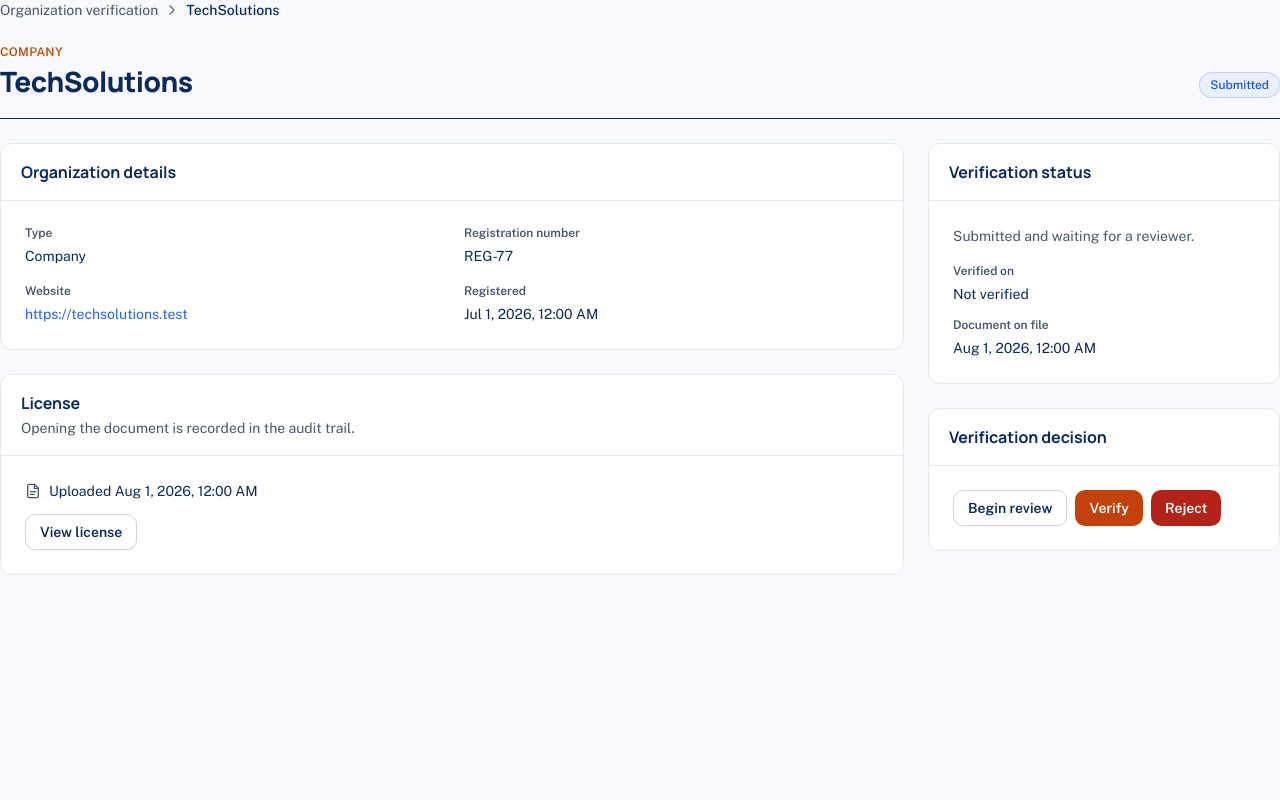
Scenario: AdminOrganizationDetailPage › leaves the organization unverified when the API refuses
Step 1. Click the button "Verify" → (1109, 508), box x1=1076 y1=490 x2=1143 y2=526
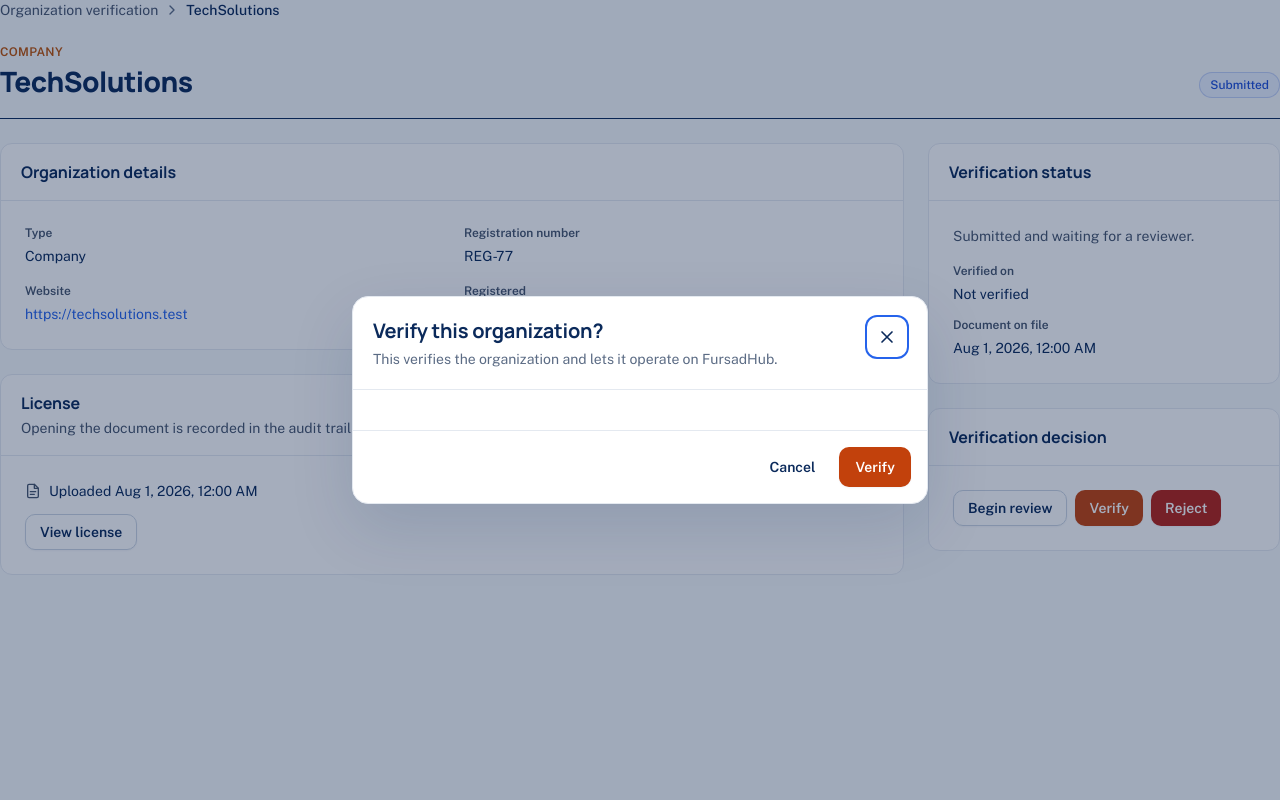
# Phase 8: the dialog's confirm button is named after the action, never a bare "Confirm".
Step 2. Click the button "Verify" → (875, 467), box x1=839 y1=447 x2=911 y2=487
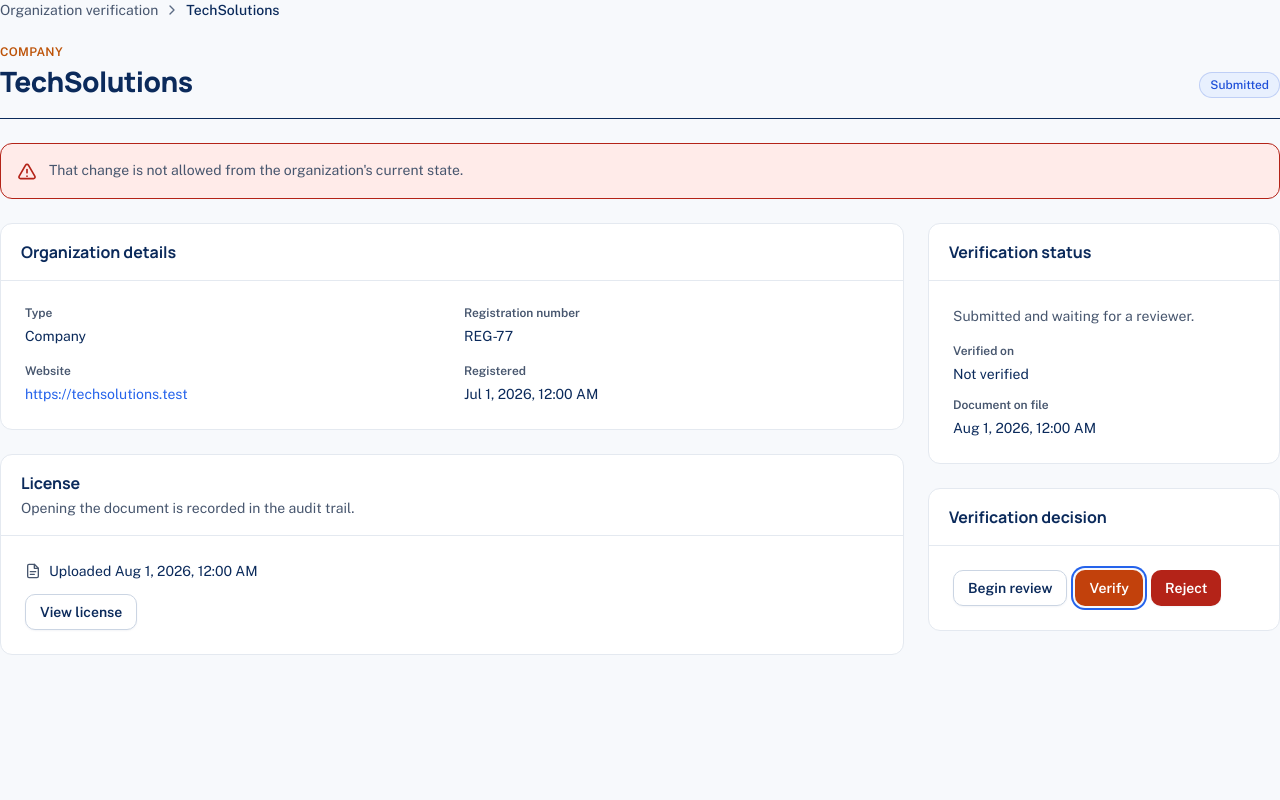
Check: the text "Submitted" is shown, box x1=1199 y1=72 x2=1279 y2=98
Check: the message "That change is not allowed from the organization's current state." is shown, box x1=0 y1=143 x2=1279 y2=199
